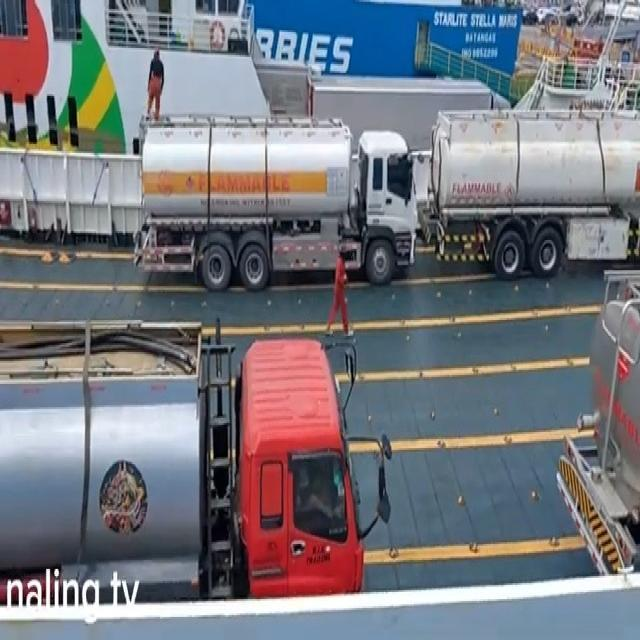truck: (0, 318, 377, 593), (136, 118, 421, 288), (423, 103, 640, 277), (554, 272, 640, 581)
